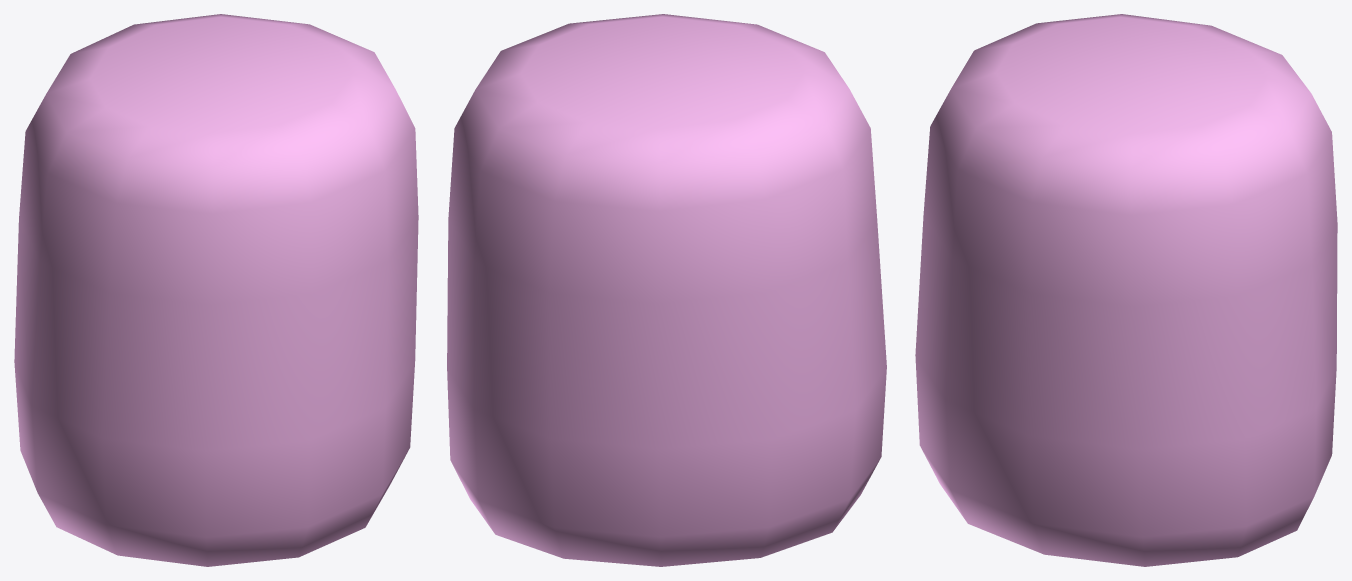
Rendered from marshmallow_002.glb.
3 renders of one model, left to right at view 1: azimuth 30°, elevation 25°; view 2: azimuth 150°, elevation 25°; view 3: azimuth 270°, elevation 25°, orthographic. The views are drawn at different scales.
Parts seen in each view (by area): view 1: marshmallow_002; view 2: marshmallow_002; view 3: marshmallow_002.
Boxes of the visible parts, x1=… form: marshmallow_002: x1=14, y1=14, x2=418, y2=566; marshmallow_002: x1=447, y1=14, x2=886, y2=566; marshmallow_002: x1=915, y1=14, x2=1337, y2=566.
Size of the model in its own units: 1.1 by 1.22 by 1.08.
Materials: 1 (1 with a texture image).
